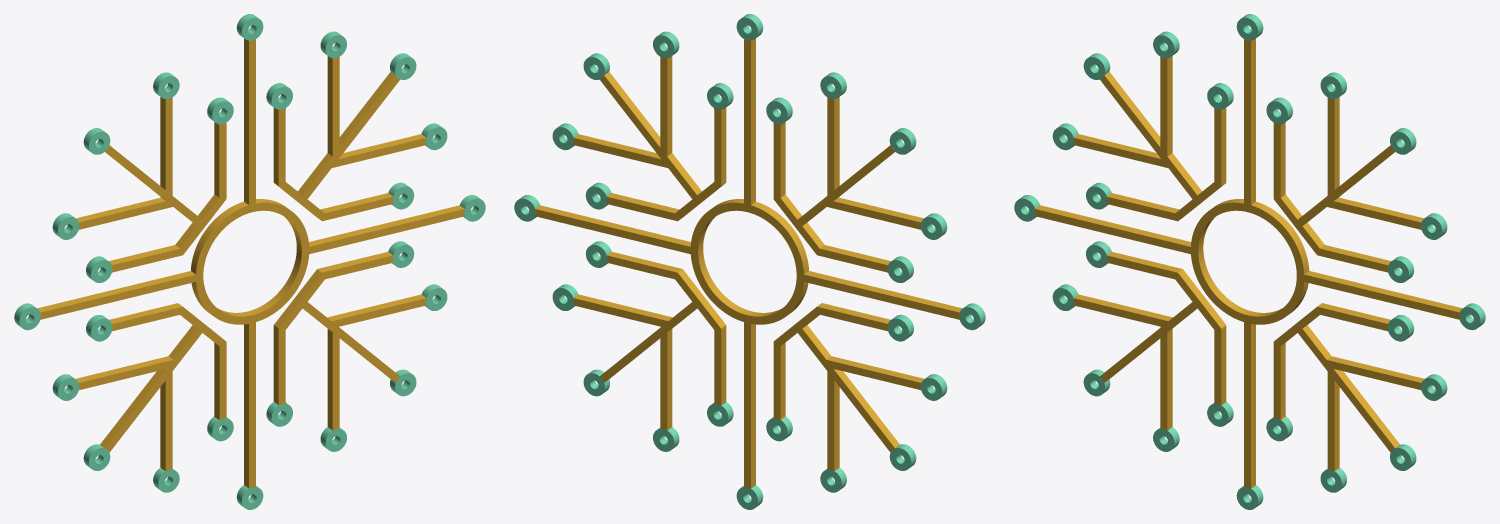
Rendered from model_profundity.glb.
3 renders of one model, left to right at view 1: azimuth 30°, elevation 25°; view 2: azimuth 150°, elevation 25°; view 3: azimuth 330°, elevation 25°, orthographic.
Size of the model in its own units: 1536 by 1548 by 29.28.
